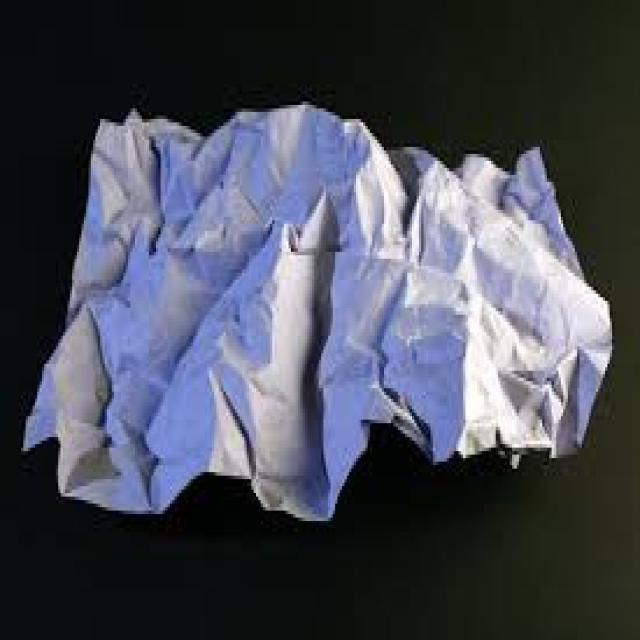Paper: (23, 105, 616, 525)
